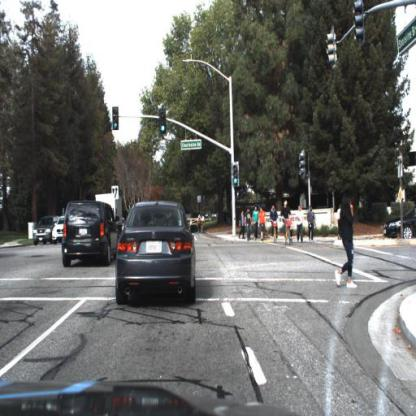biker: (281, 199, 295, 248), (268, 204, 280, 247)
car: (115, 201, 198, 307), (60, 198, 116, 269), (33, 214, 53, 249), (54, 215, 67, 244)
pedestrian: (333, 193, 363, 289), (295, 202, 306, 244), (307, 202, 317, 242), (258, 205, 268, 243), (252, 207, 261, 243), (238, 208, 247, 241), (197, 211, 207, 238), (239, 208, 247, 241), (245, 207, 253, 240), (336, 198, 341, 240)
trafficLight: (230, 159, 241, 192), (158, 105, 168, 136), (111, 104, 121, 132)
